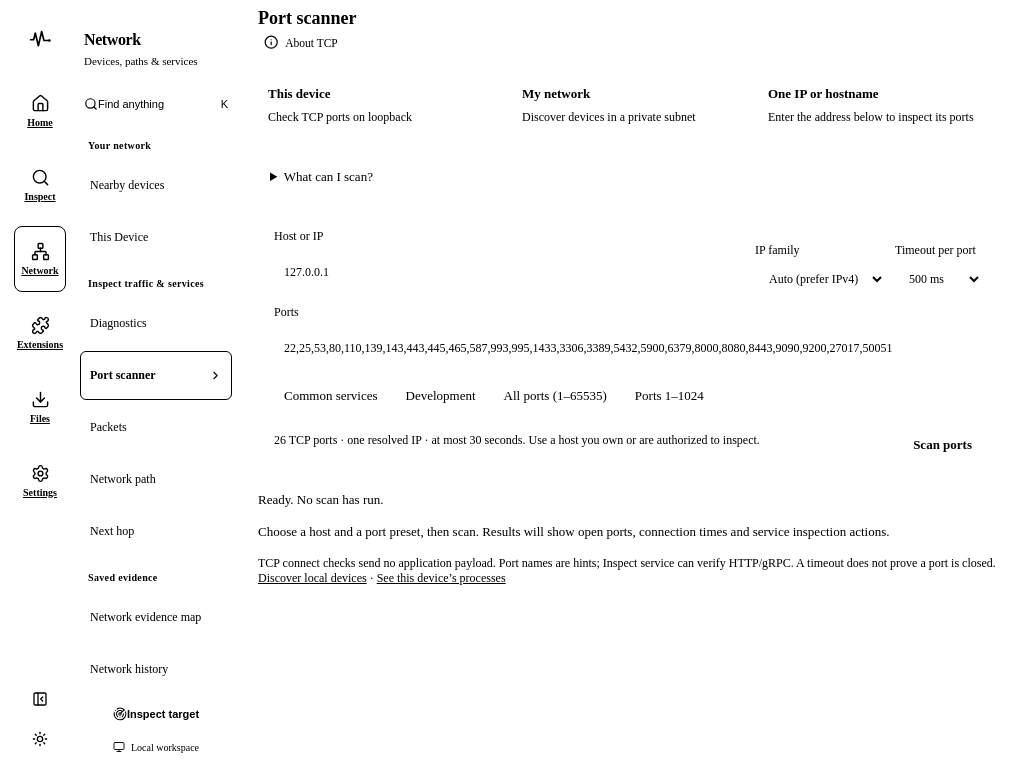
Test: explains remote scan capabilities and links to subnet discovery
Click the heading "What can I scan?".
click(328, 177)  # box 284,169 -> 373,184
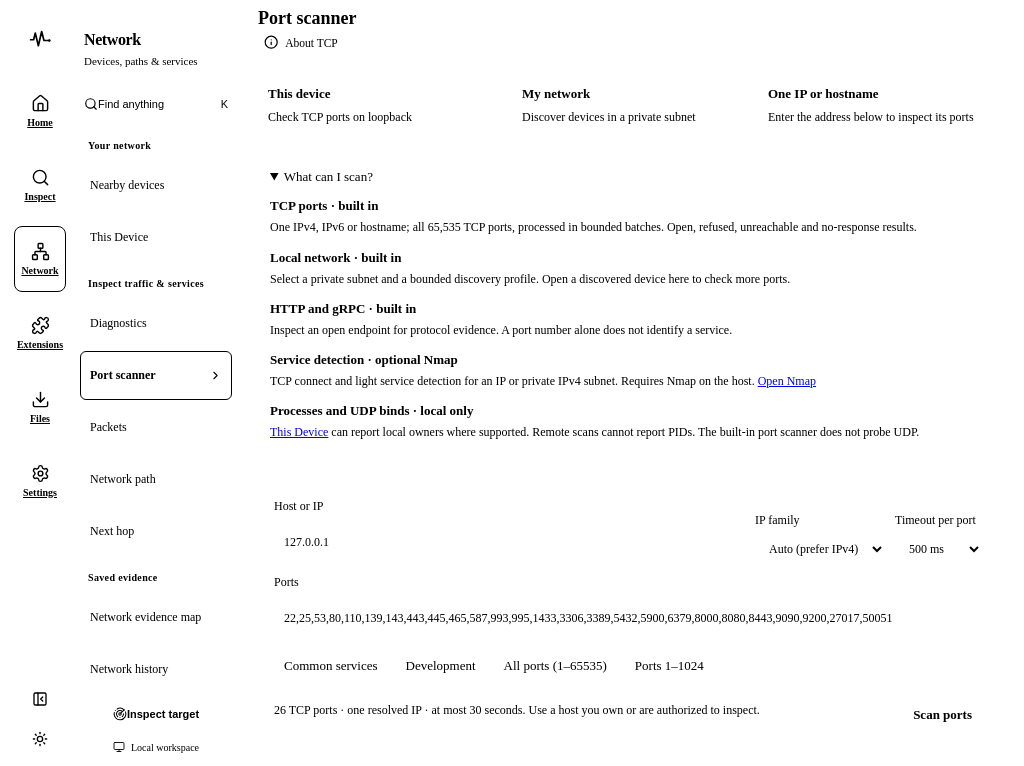
Result: the text "Remote scans cannot report PIDs" is shown at 328,425 -> 919,439
Result: the link "Open Nmap" is shown at 758,374 -> 816,388
